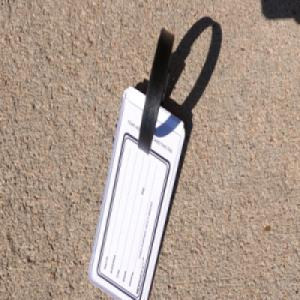LuggageTag: (87, 26, 186, 300)
